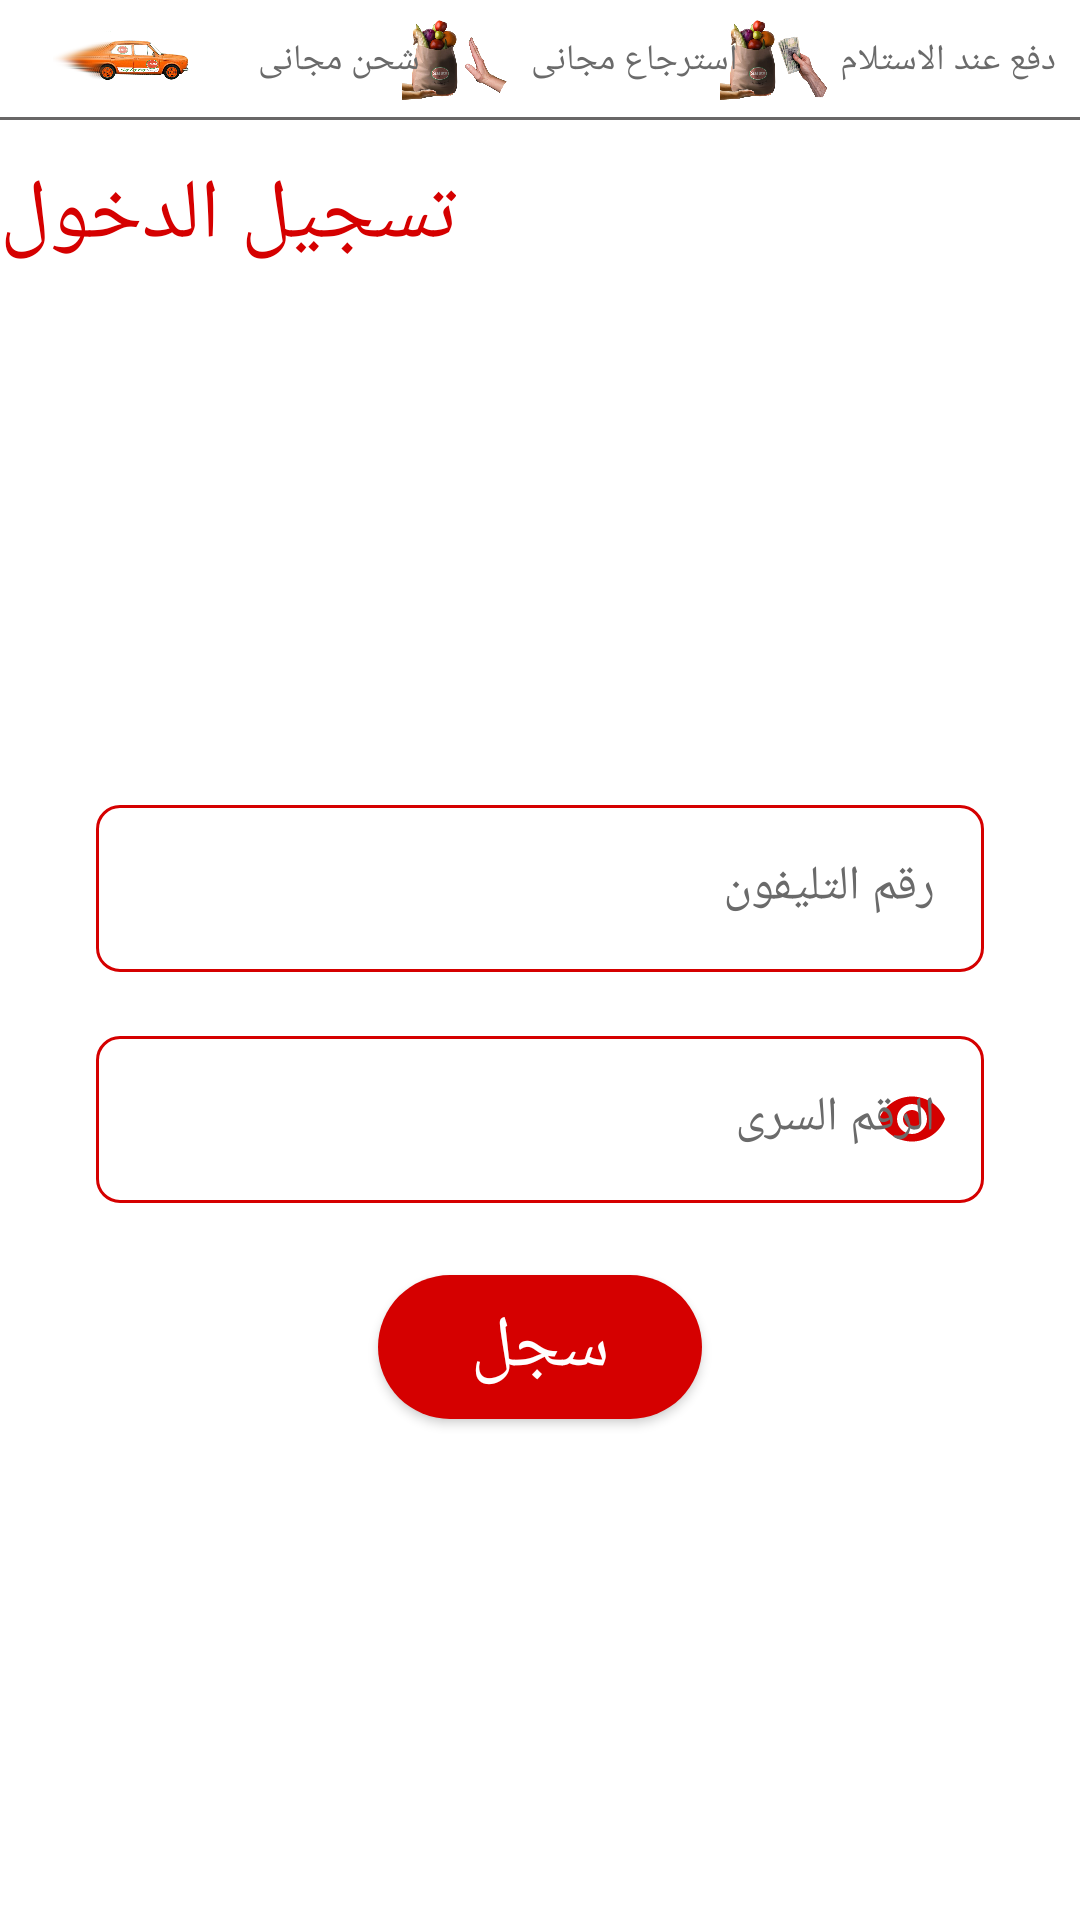

Icons on this 1080px×1920px Android screen, each with its box as (x1, y1, x2, y2):
cash: (720, 20, 827, 100)
freereturn: (402, 20, 507, 100)
